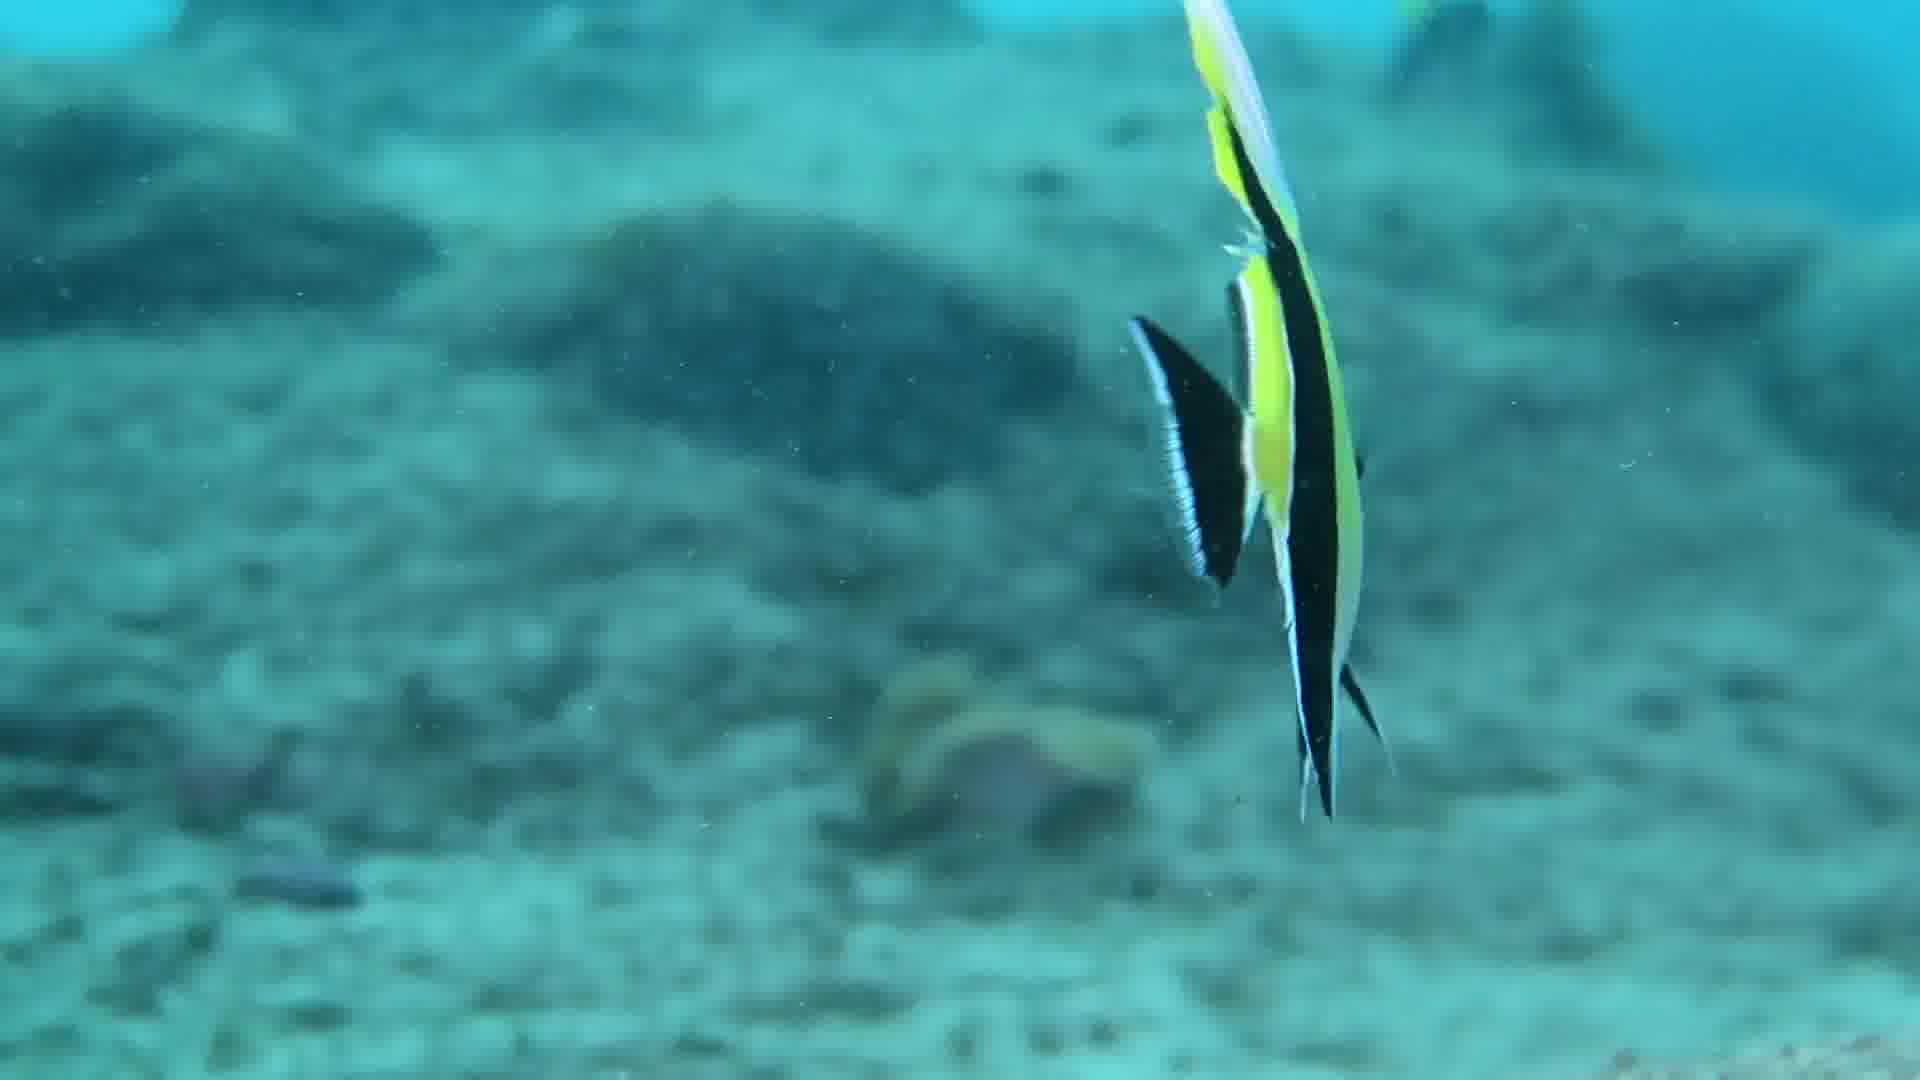Zanclus cornutus: (1087, 1, 1414, 829)
